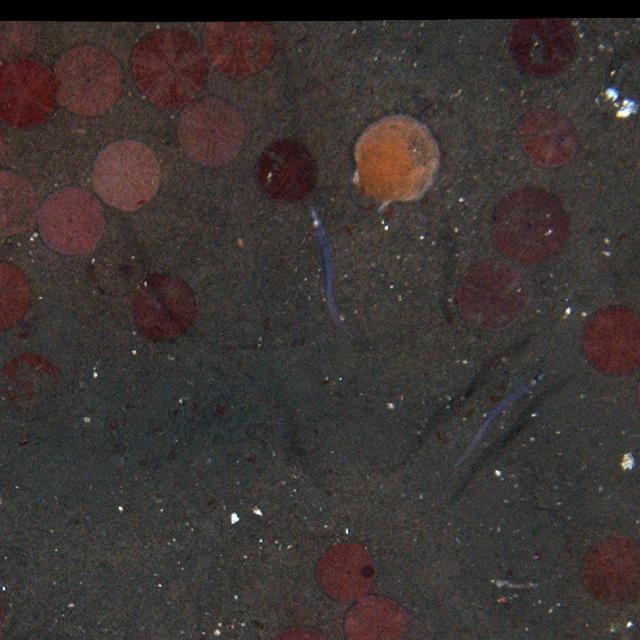roundfish: (446, 372, 550, 477), (304, 210, 359, 344)
